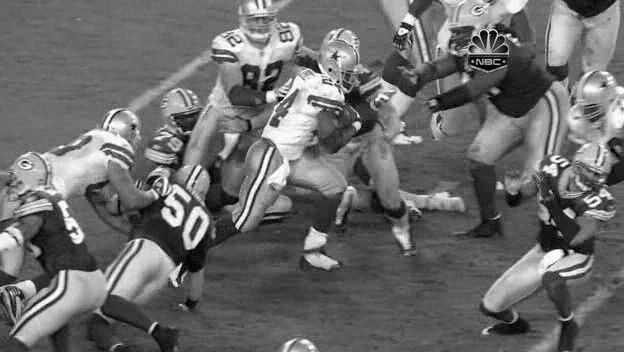person: (322, 42, 357, 86), (321, 42, 356, 86), (323, 42, 358, 86), (322, 41, 357, 85), (322, 43, 357, 87)
target_negative: (355, 14, 521, 177), (135, 197, 213, 259), (598, 114, 611, 302), (187, 333, 337, 347), (519, 341, 572, 344)
